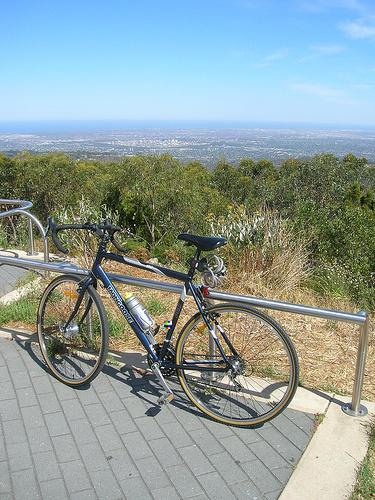car: (36, 221, 301, 430)
